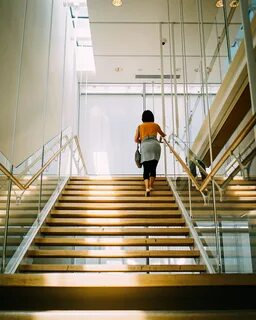awake: (134, 109, 167, 198)
